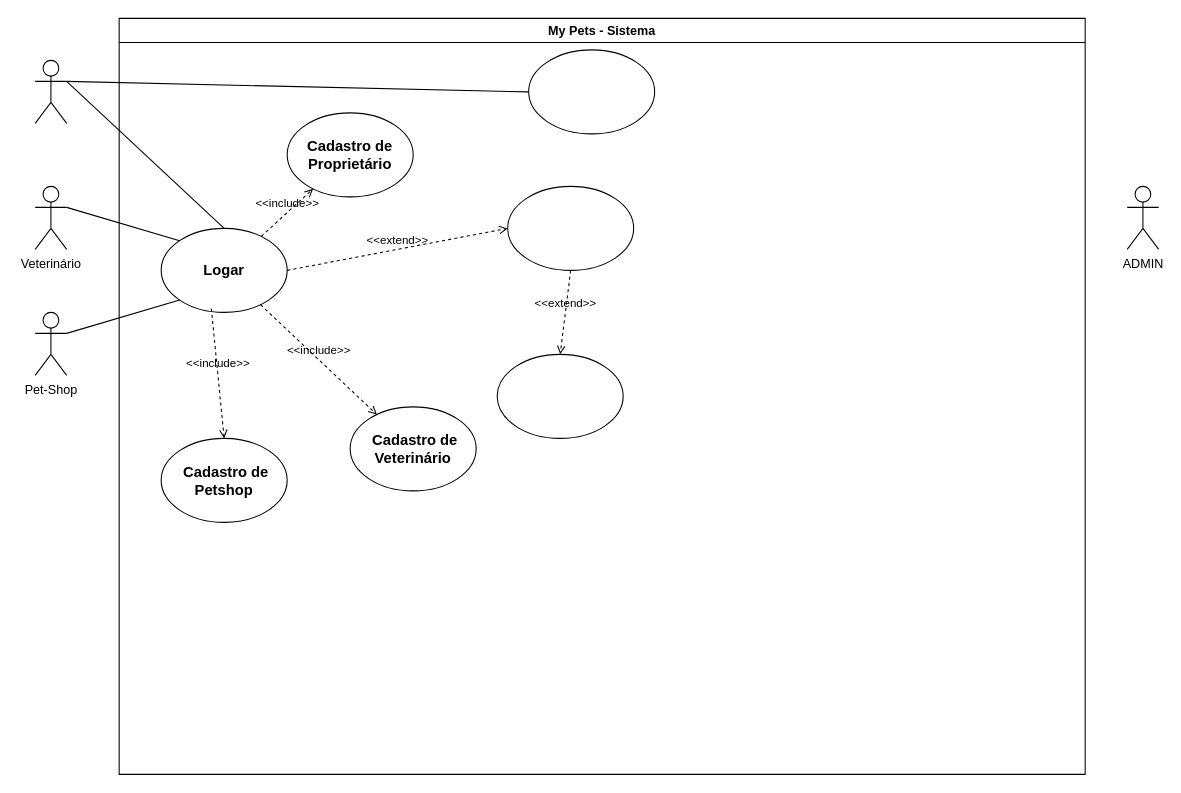
The diagram is 1181 pixels wide and 793 high, and some of its shapes have lost their labels. The shapes that lost their labels are listed below. From the top down, each one's box as (x1, y1, x2, y2) in pixels, then its label:
(34, 59, 67, 123): Proprietario
(528, 49, 655, 134): Registro de Animal
(507, 185, 634, 270): Agendamento de Consulta Veterinária
(496, 353, 623, 438): Consulta e Atualização do Histórico Médico do Animal
